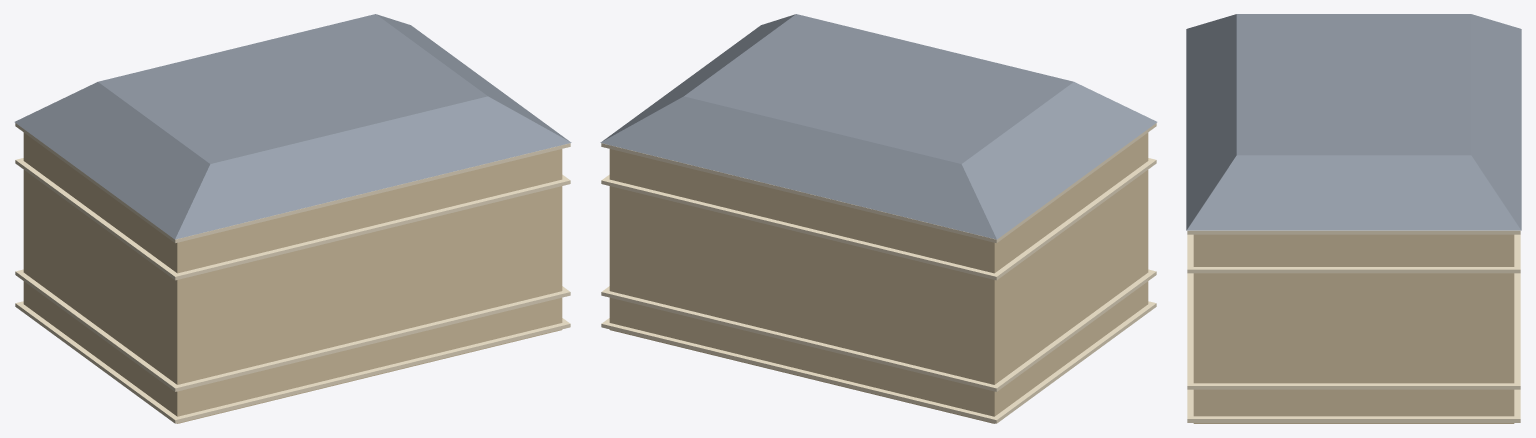
File: heritage-3-lod2.glb
The picture shows the model from 3 angles, left to right: view 1: azimuth 30°, elevation 25°; view 2: azimuth 150°, elevation 25°; view 3: azimuth 270°, elevation 25°; orthographic projection. The views are drawn at different scales.
Parts seen in each view (by area): view 1: heritage-3_architecture; view 2: heritage-3_architecture; view 3: heritage-3_architecture.
Part boxes in pixels (x1,y1,x2,y2): heritage-3_architecture: (14,14,571,423); heritage-3_architecture: (600,14,1157,423); heritage-3_architecture: (1186,14,1521,423).
Bounding box in the file's own units: 26.8 × 14.95 × 18.8.
